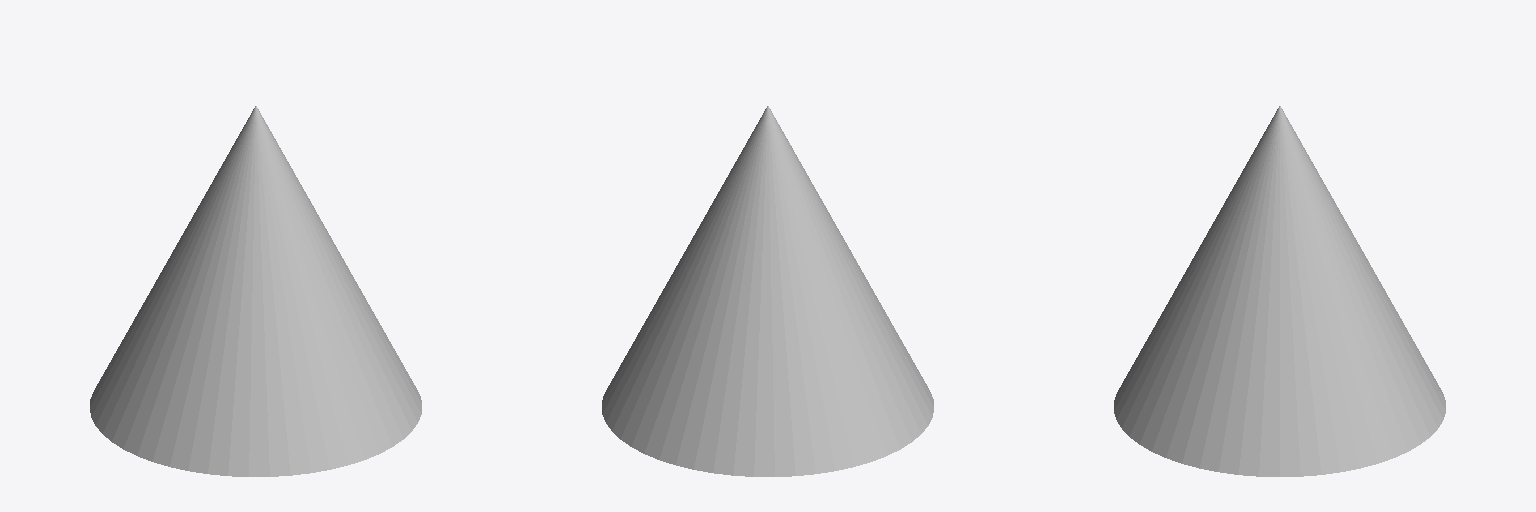
The model's file is LightCone.obj.
3 renders of one model, left to right at view 1: azimuth 30°, elevation 25°; view 2: azimuth 150°, elevation 25°; view 3: azimuth 270°, elevation 25°, orthographic.
Parts seen in each view (by area): view 1: pCone1; view 2: pCone1; view 3: pCone1.
Boxes of the visible parts, <box> form: pCone1: <box>90,106,421,476</box>; pCone1: <box>602,106,933,476</box>; pCone1: <box>1114,106,1445,476</box>.
Size of the model in its own units: 2 by 2 by 2.